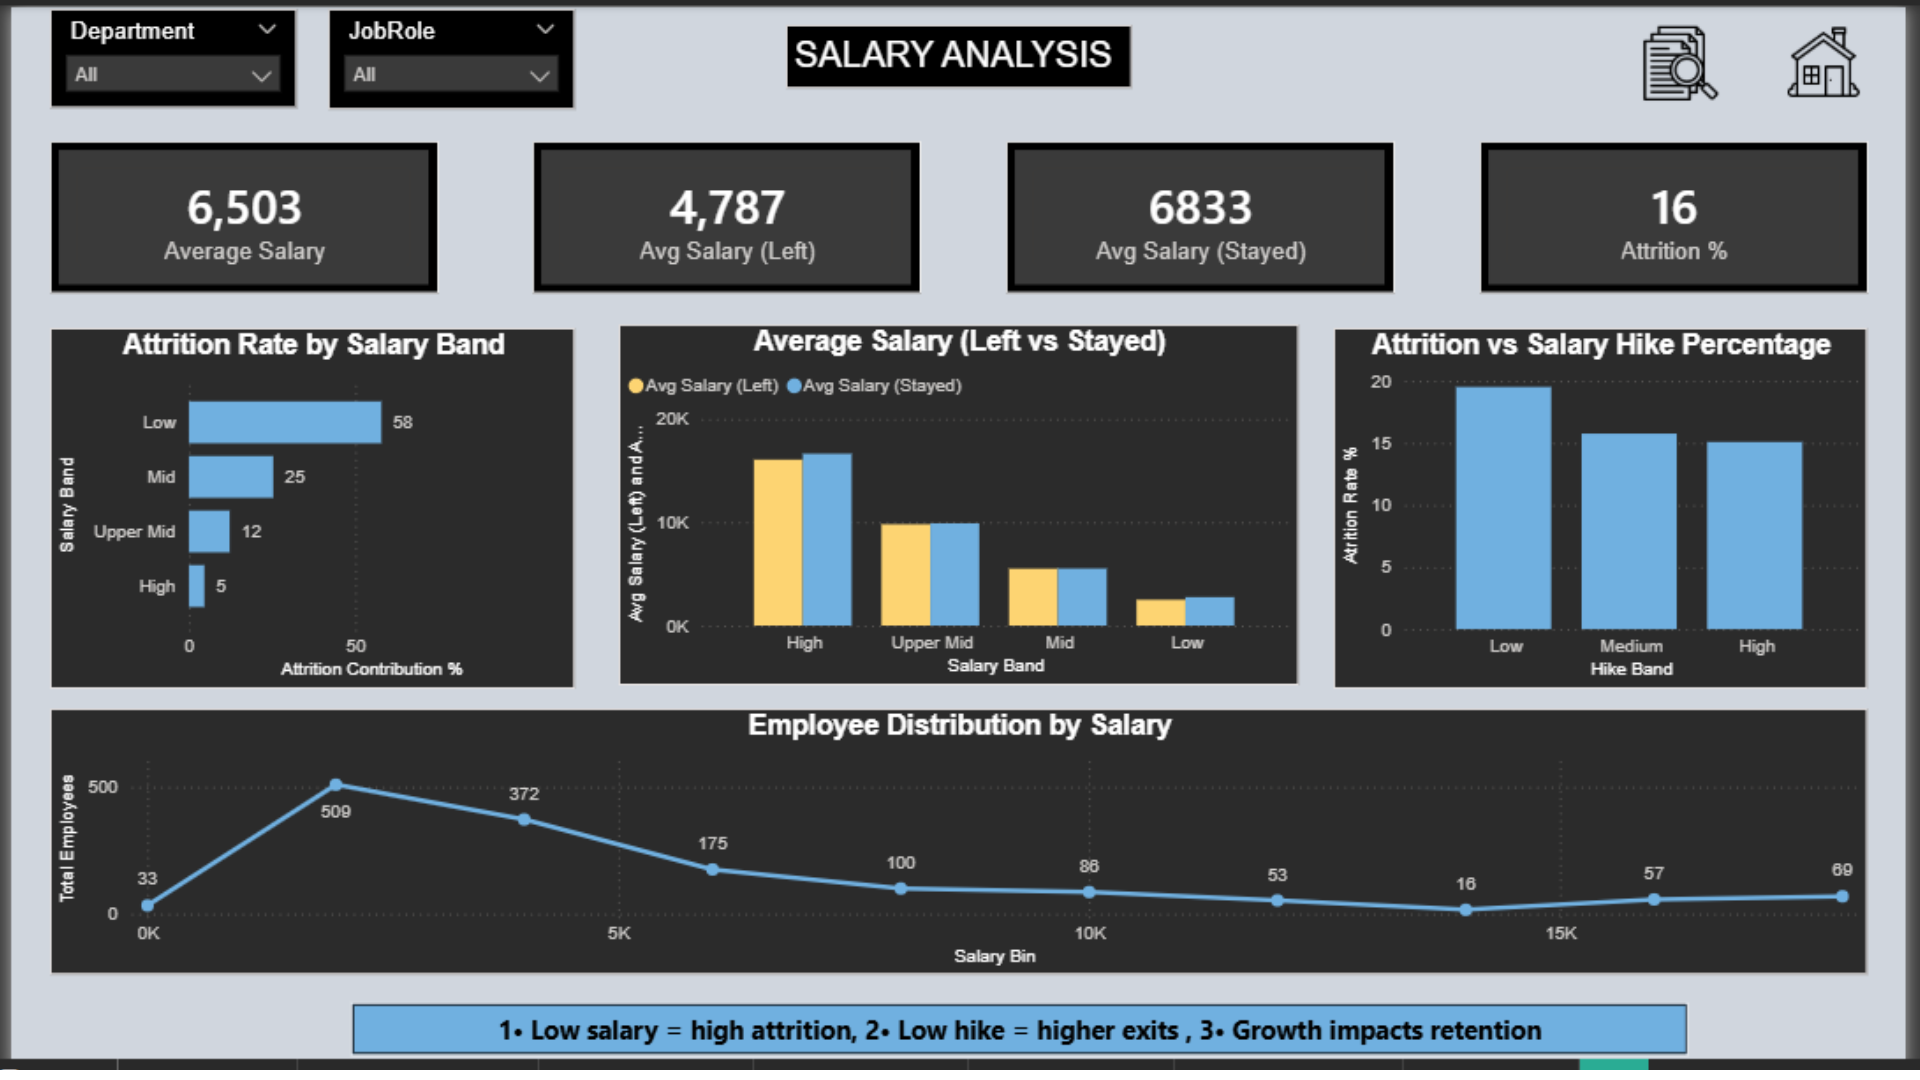

The dashboard page shown, as its layout file describes it:
{"tool":"powerbi","page":{"name":"Salary Analysis","canvas":[1280,720],"ordinal":2},"visuals":[{"type":"textbox","box":[524.4,12.4,234,42.7],"z":0},{"type":"cardVisual","fields":{"Data":["Salary Analysis.Average Salary"]},"box":[26.2,90.8,262.9,103.2],"z":1000},{"type":"cardVisual","fields":{"Data":["Overview Measures.Attribution %"]},"box":[992.3,90.8,262.9,103.2],"z":2000},{"type":"cardVisual","fields":{"Data":["Salary Analysis.Average Salary (emp left)"]},"box":[352.3,90.8,262.9,103.2],"z":3000},{"type":"cardVisual","fields":{"Data":["Salary Analysis.Avg Salary (Stayed)"]},"box":[673,90.8,262.9,103.2],"z":4000},{"type":"clusteredBarChart","title":"Attrition Rate by Salary Band","fields":{"Category":["Employees_Database.Salary Band"],"Y":["Salary Analysis.Attrition Contribution %"]},"box":[26.2,216.1,355.1,243.6],"z":5000},{"type":"clusteredColumnChart","title":"Average Salary (Left vs Stayed)","fields":{"Category":["Employees_Database.Salary Band"],"Y":["Salary Analysis.Avg Salary (Left)","Salary Analysis.Avg Salary (Stayed)"]},"box":[410.2,214.7,459.7,243.6],"z":6000},{"type":"clusteredColumnChart","title":"Attrition vs Salary Hike Percentage","fields":{"Category":["Employees_Database.Hike Band"],"Y":["Home Page Measures.Atrition Rate %"]},"box":[894.6,216.1,360.6,243.6],"z":7000},{"type":"lineChart","title":"Employee Distribution by Salary","fields":{"Category":["Employees_Database.Salary Bin"],"Y":["Home Page Measures.Total Employees"]},"box":[26.2,473.5,1229.1,180.3],"z":8000},{"type":"slicer","fields":{"Values":["Employees_Database.Department"]},"box":[25.8,1.4,167.1,66.6],"z":9000},{"type":"slicer","fields":{"Values":["Employees_Database.JobRole"]},"box":[214.6,1.4,167.1,67.9],"z":10000},{"type":"shape","box":[229.8,673,904.3,35.8],"z":11000},{"type":"image","box":[1196,12.4,57.8,52.3],"z":12000},{"type":"image","box":[1099.7,12.4,57.8,52.3],"z":13000}]}

Visuals, with their boxes in screenshot pixels (x1, y1, x2, y2), scaled from the page's 1280x720 canvas onto the 1920x1080 screenshot:
textbox: x1=787, y1=19, x2=1138, y2=83
cardVisual - Salary Analysis.Average Salary: x1=39, y1=136, x2=434, y2=291
cardVisual - Overview Measures.Attribution %: x1=1488, y1=136, x2=1883, y2=291
cardVisual - Salary Analysis.Average Salary (emp left): x1=528, y1=136, x2=923, y2=291
cardVisual - Salary Analysis.Avg Salary (Stayed): x1=1010, y1=136, x2=1404, y2=291
"Attrition Rate by Salary Band" clusteredBarChart: x1=39, y1=324, x2=572, y2=690
"Average Salary (Left vs Stayed)" clusteredColumnChart: x1=615, y1=322, x2=1305, y2=687
"Attrition vs Salary Hike Percentage" clusteredColumnChart: x1=1342, y1=324, x2=1883, y2=690
"Employee Distribution by Salary" lineChart: x1=39, y1=710, x2=1883, y2=981
slicer - Employees_Database.Department: x1=39, y1=2, x2=289, y2=102
slicer - Employees_Database.JobRole: x1=322, y1=2, x2=573, y2=104
shape: x1=345, y1=1010, x2=1701, y2=1063
image: x1=1794, y1=19, x2=1881, y2=97
image: x1=1650, y1=19, x2=1736, y2=97
